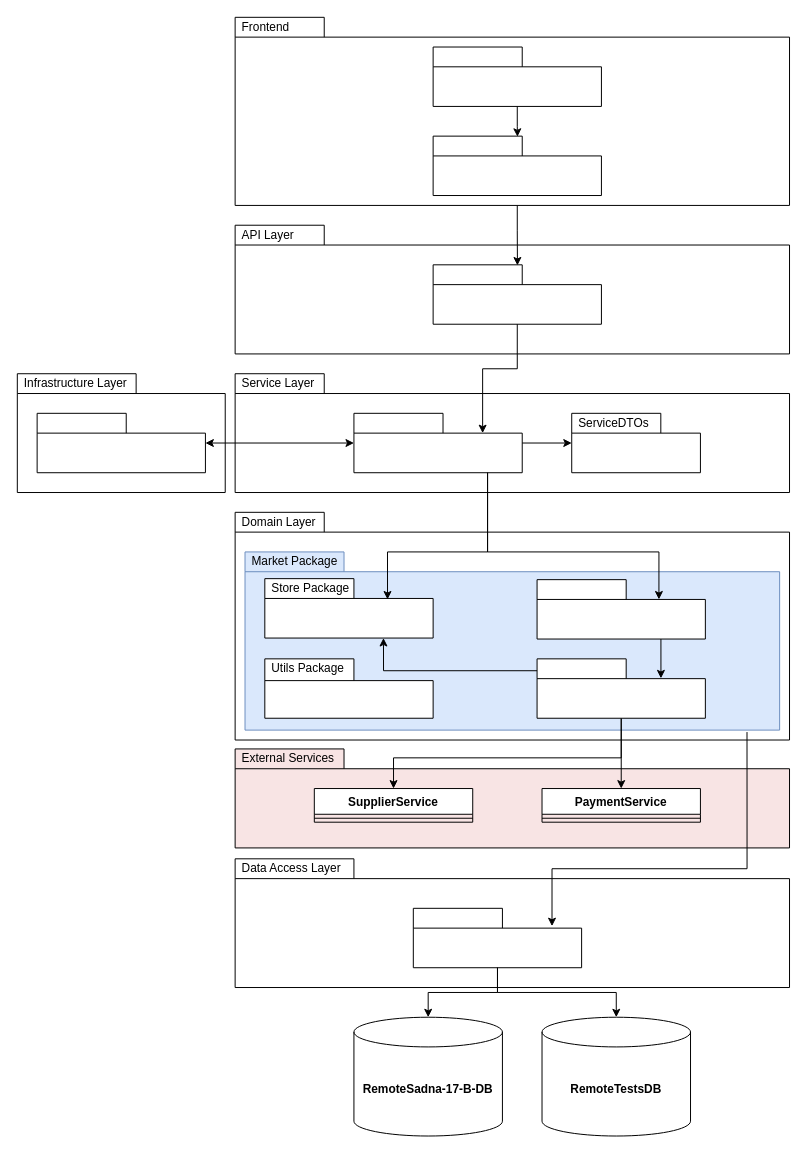
Some shapes in this 807 by 1153 pixel diagram are drawn without their labels. Each missing label, with the centre of its shape:
APIControllers: the point at 516,294
Config: the point at 120,442
Controllers: the point at 516,165
Order Package: the point at 620,688
Repositories: the point at 497,937
Services: the point at 437,442
User Package: the point at 620,609
Views: the point at 516,76
